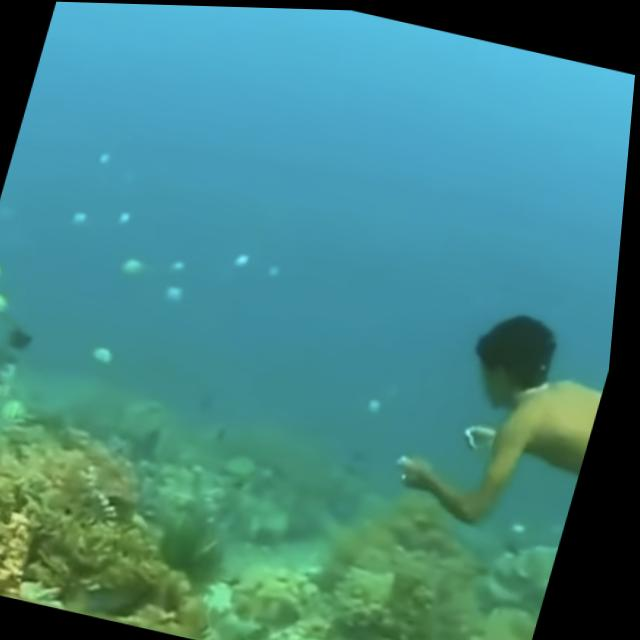human: (346, 206, 626, 640)
